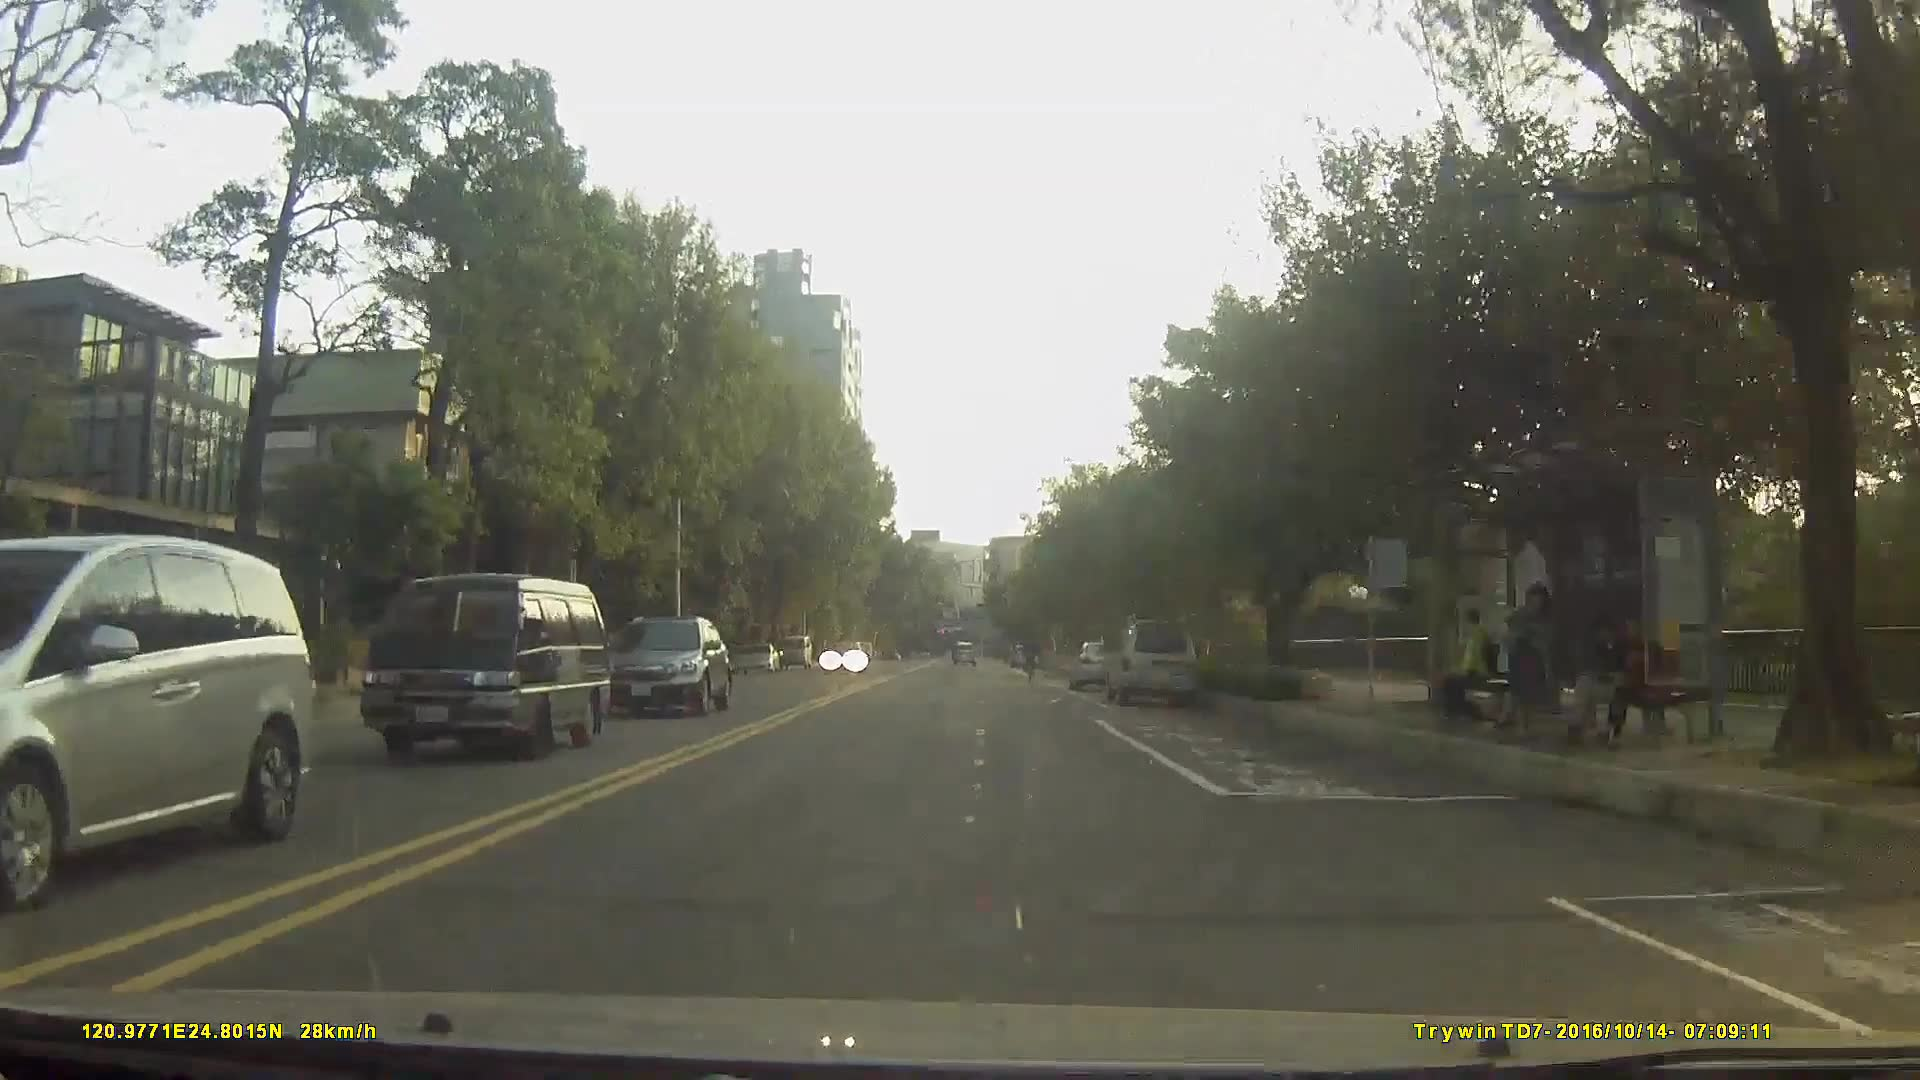pedestrian: (1556, 604, 1631, 749), (1502, 580, 1558, 748), (1444, 603, 1506, 726)
rider: (1022, 633, 1042, 686)
vehicle: (0, 530, 312, 905), (358, 568, 610, 768), (598, 615, 732, 716), (1104, 617, 1197, 705), (1068, 639, 1127, 689), (816, 636, 864, 672), (737, 641, 780, 675), (778, 633, 812, 671), (950, 641, 975, 666)
